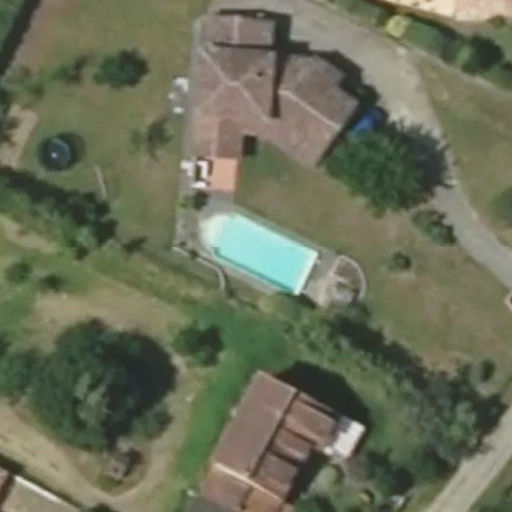pool: (192, 233, 310, 243)
